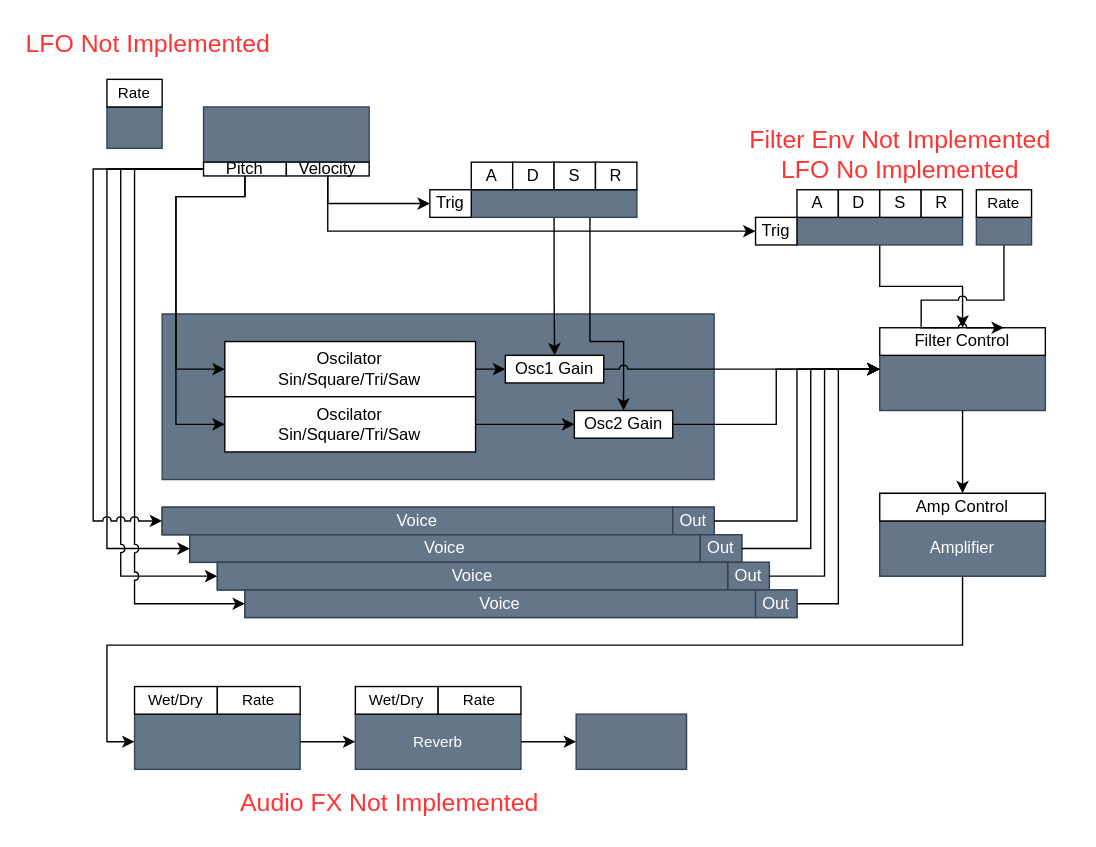
This 1096x847 diagram has some shape labels left out. The box of each missing label's shape, as (x1, y1, x2, y2) in pixels:
Amp Envelope: (470, 188, 637, 217)
Delay: (133, 713, 300, 769)
Filter Envelope: (796, 216, 963, 245)
Filter LPF/HPF/BPF: (878, 354, 1045, 411)
LFO: (975, 216, 1032, 245)
MIDI Conversion: (202, 106, 369, 162)
Output: (575, 713, 687, 769)
Pitch LFO: (106, 106, 162, 148)
